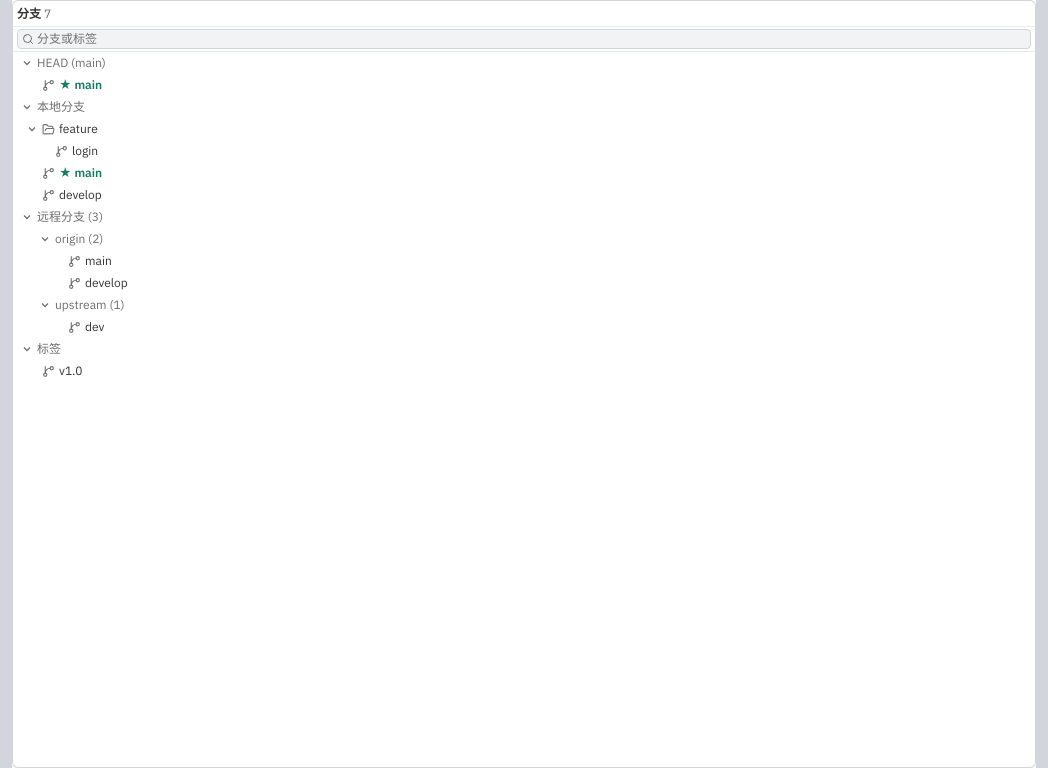
Scenario: Remote 二级分组（spec §8.2） › 二级组可折叠
The width and height of the screenshot is (1048, 768).
Expected: the 2nd list item "main" is shown, [13,162,1035,184]
Click the list item "upstream" at [90, 304], box [13,294,1035,316]
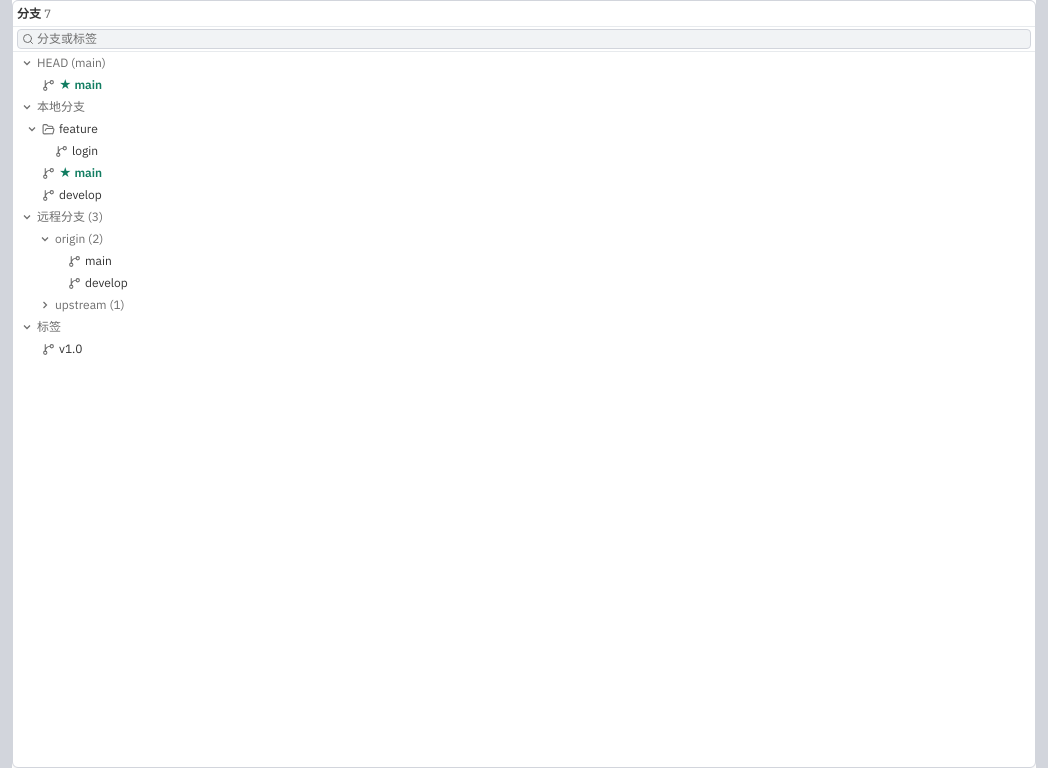
Now the list item "upstream" is collapsed, box [13,294,1035,316]
